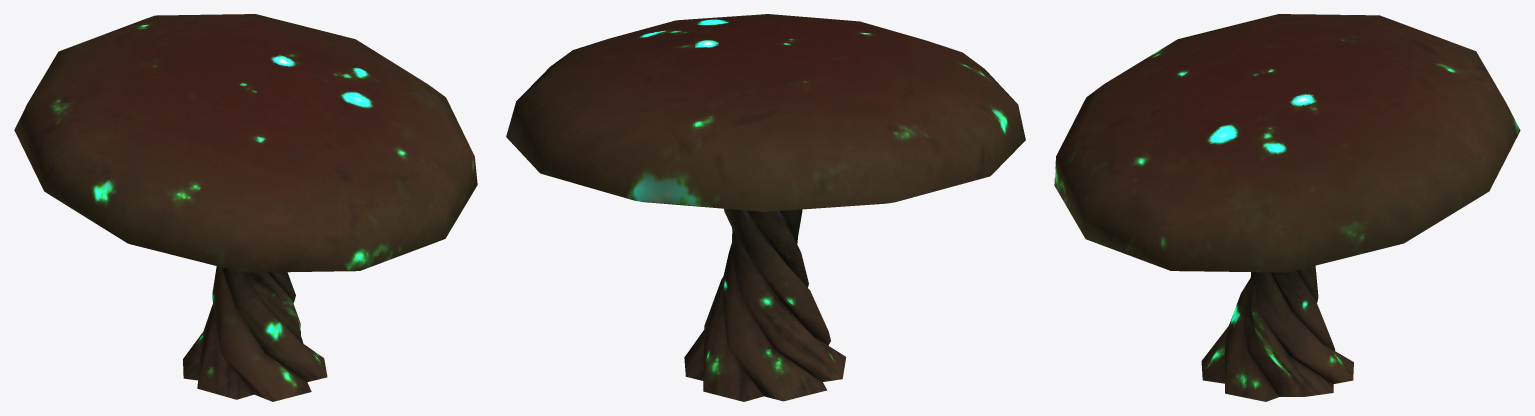
The model's file is Mushroom_01.fbx.
The picture shows the model from 3 angles, left to right: view 1: azimuth 30°, elevation 25°; view 2: azimuth 150°, elevation 25°; view 3: azimuth 270°, elevation 25°; orthographic projection. The views are drawn at different scales.
Parts seen in each view (by area): view 1: pSphere2; view 2: pSphere2; view 3: pSphere2.
Part boxes in pixels (bbox=[...]): pSphere2: bbox=[14, 14, 477, 401]; pSphere2: bbox=[506, 14, 1025, 401]; pSphere2: bbox=[1054, 14, 1520, 401].
Bounding box in the file's own units: 5.97 × 4.2 × 5.93.
Materials: 1 (1 with a texture image).
